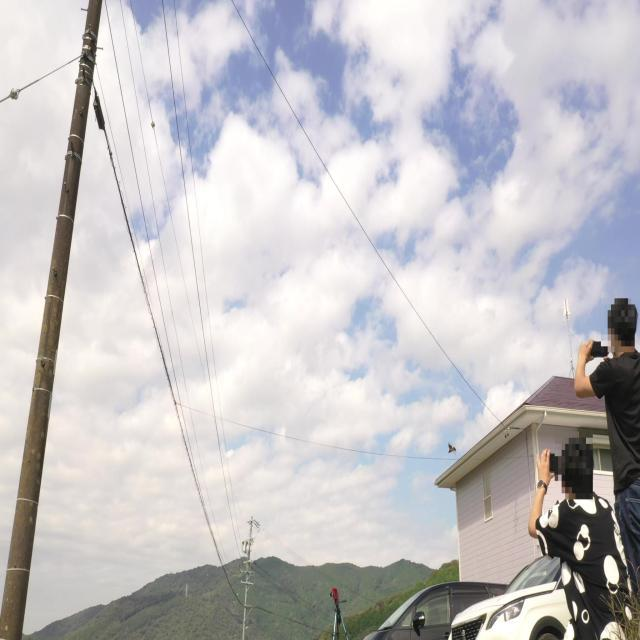Birds: (440, 433, 459, 467)
